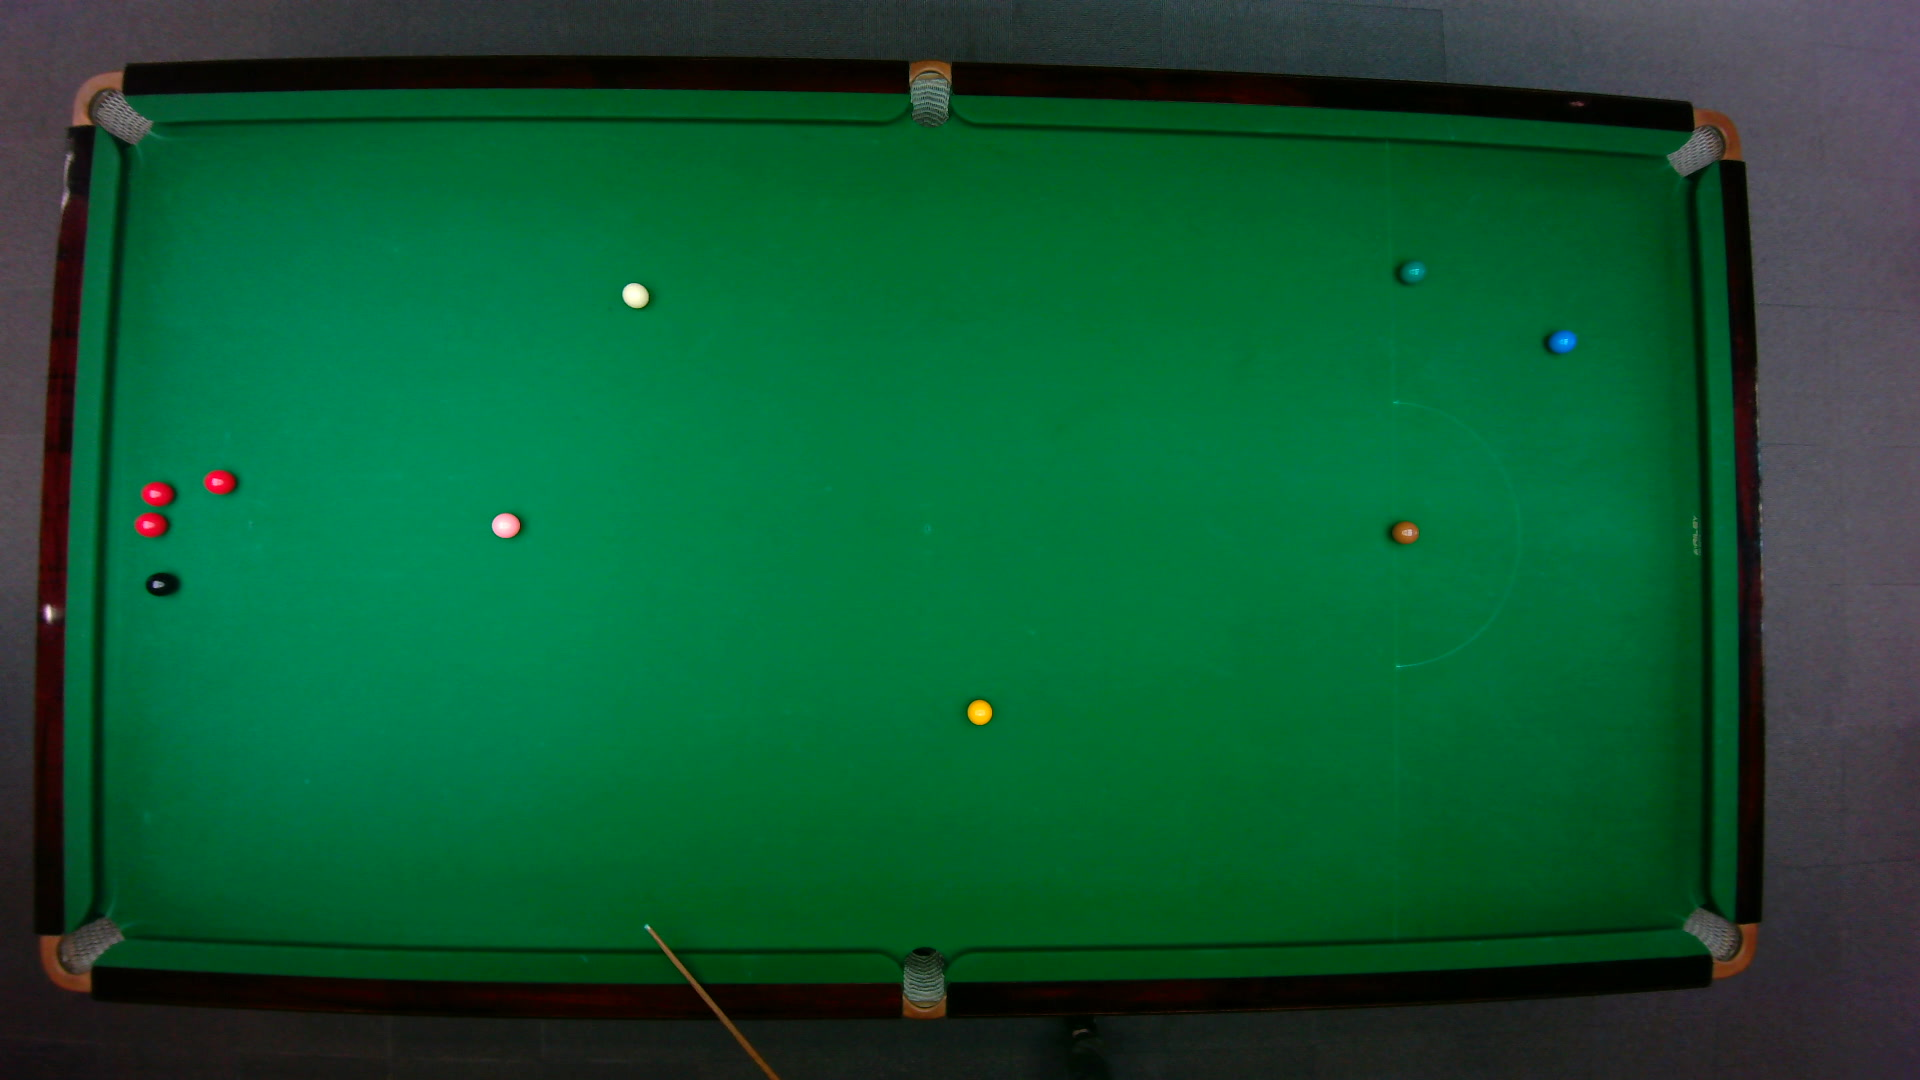bag: (37, 914, 125, 992), (69, 69, 152, 145), (1679, 905, 1756, 978), (1663, 107, 1741, 178), (901, 944, 944, 1021), (909, 57, 949, 128)
black: (142, 571, 175, 596)
blue: (1545, 327, 1577, 353)
brown: (1389, 520, 1419, 545)
cue: (644, 923, 781, 1080)
green: (1396, 257, 1427, 284)
pink: (489, 509, 521, 539)
red: (132, 510, 167, 537), (140, 480, 175, 506), (203, 467, 236, 495)
white: (618, 280, 650, 309)
yellow: (964, 696, 993, 727)
zone: (1390, 400, 1520, 667)
